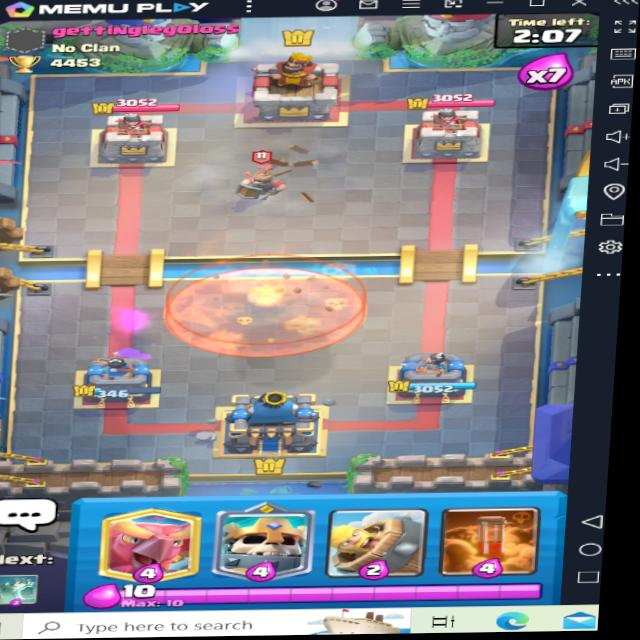Earthquake: (171, 252, 372, 341)
Poison: (174, 258, 365, 361)
Royalrecruits: (229, 155, 287, 207)
